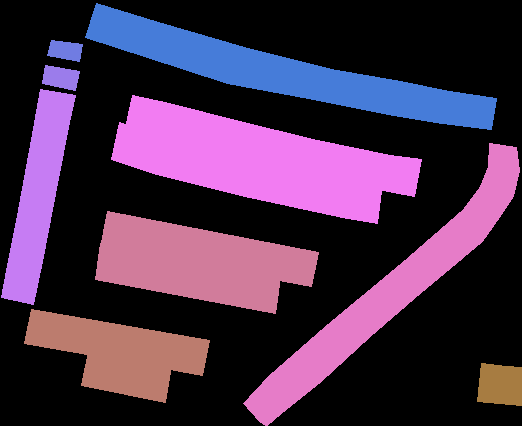parkingspot: (243, 143, 519, 426), (85, 3, 496, 129), (125, 95, 421, 196), (111, 122, 381, 223), (100, 211, 318, 286), (1, 89, 75, 304), (95, 243, 280, 313), (24, 309, 209, 375), (81, 351, 171, 402), (477, 363, 522, 405), (42, 65, 79, 90), (47, 40, 82, 61)
